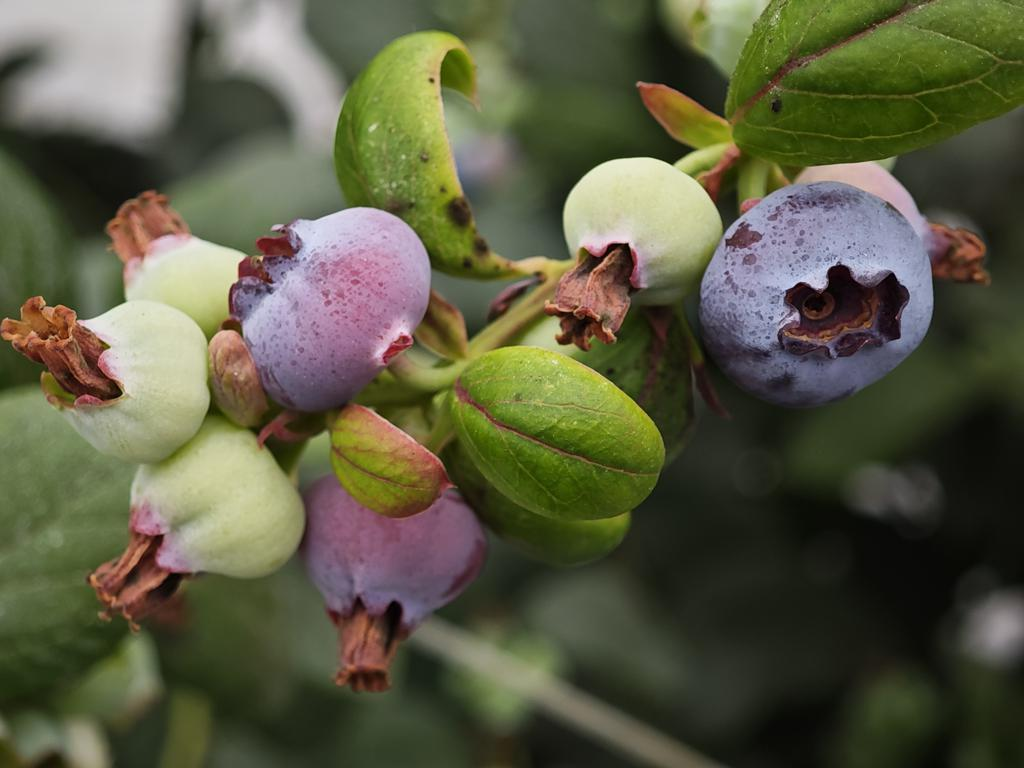RipeBlueBerry: (698, 179, 938, 413)
Semi-RipeBlueBerry: (228, 203, 434, 414), (302, 470, 493, 641)
UnripeBlueBerry: (7, 294, 213, 468), (562, 153, 725, 309)
